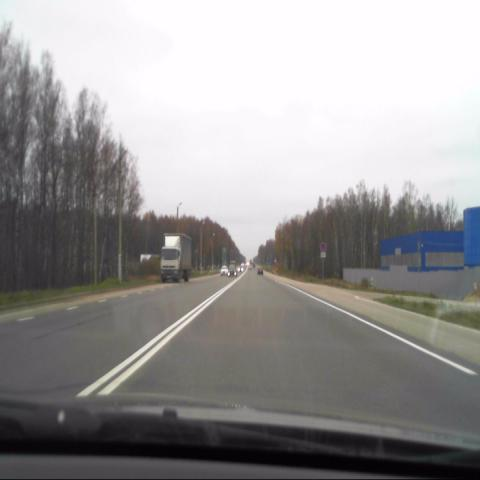3_27: (320, 240, 328, 251)
